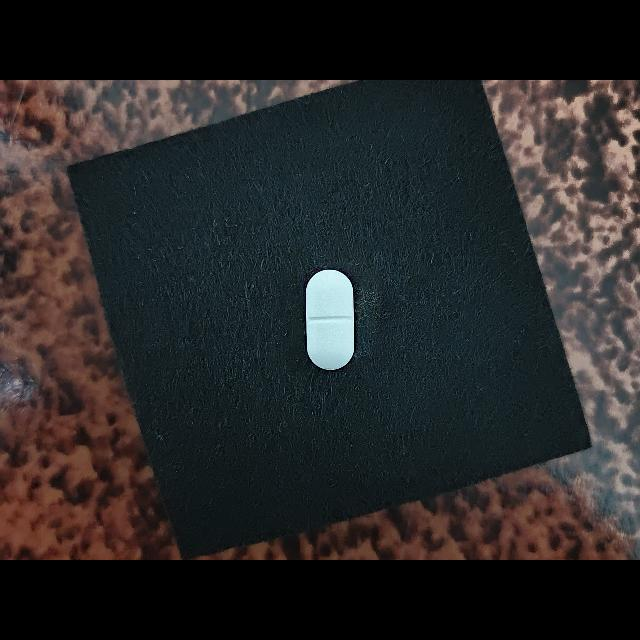Intact Pill: (305, 269, 354, 370)
